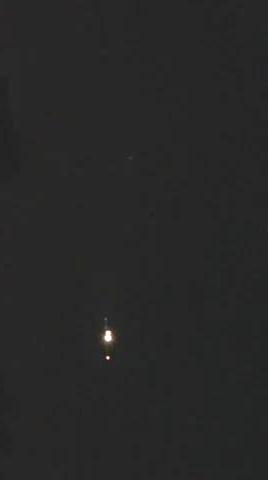Plane: (85, 295, 130, 382)
